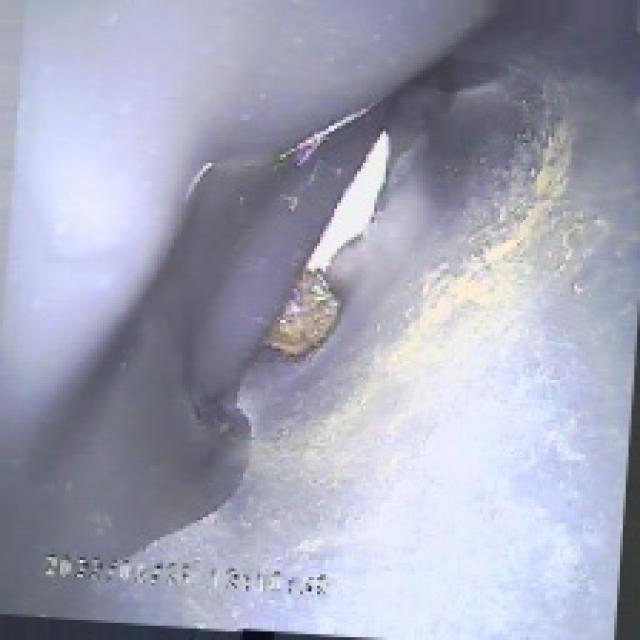shape_deformation: (71, 40, 548, 486)
